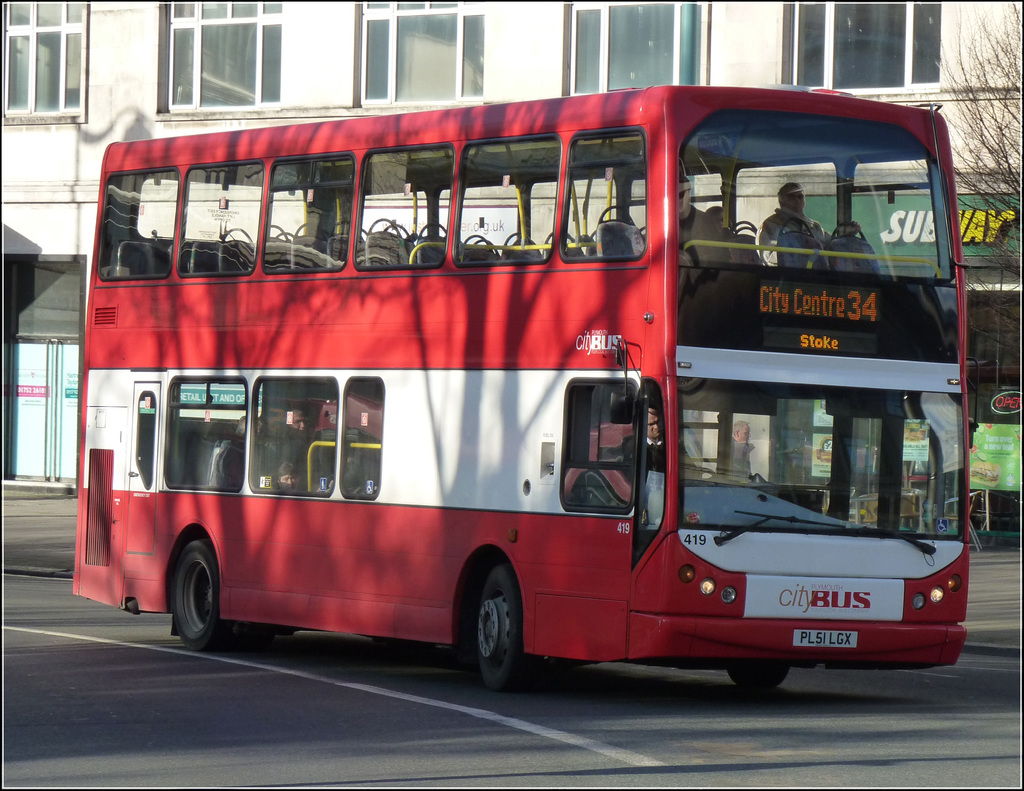Bus: (72, 85, 967, 693)
